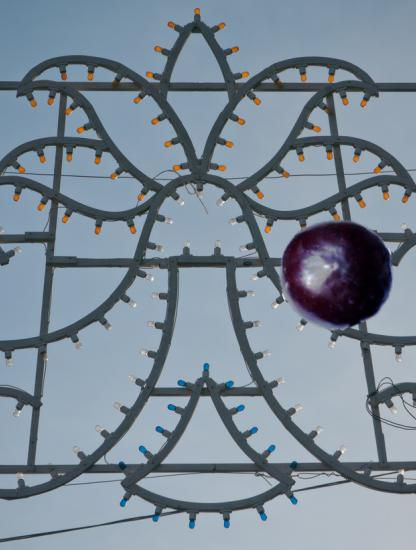Plum: (278, 215, 396, 333)
